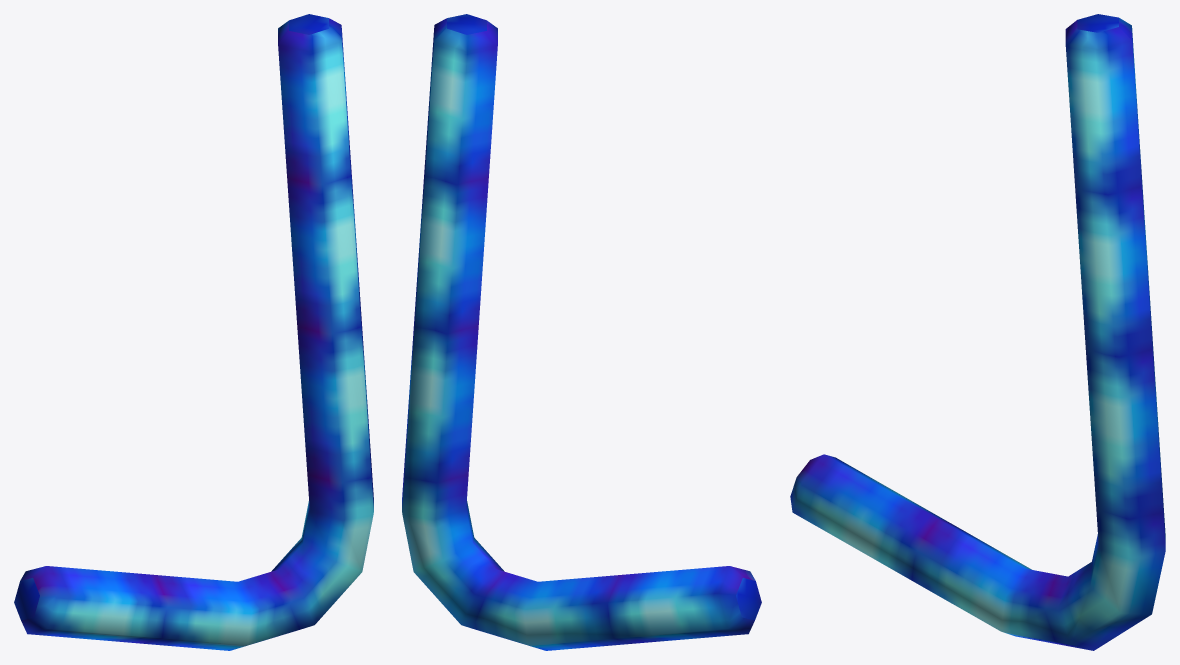
The model's file is furni_0200169.FBX.
3 renders of one model, left to right at view 1: azimuth 30°, elevation 25°; view 2: azimuth 150°, elevation 25°; view 3: azimuth 330°, elevation 25°, orthographic. The views are drawn at different scales.
Visible parts, largest first — view 1: furni_0200169; view 2: furni_0200169; view 3: furni_0200169.
Boxes of the visible parts, x1,y1,x2,y2 form: furni_0200169: (14,14,373,650); furni_0200169: (402,14,761,650); furni_0200169: (790,14,1165,650).
Bounding box in the file's own units: 34.51 × 56.87 × 5.4.
